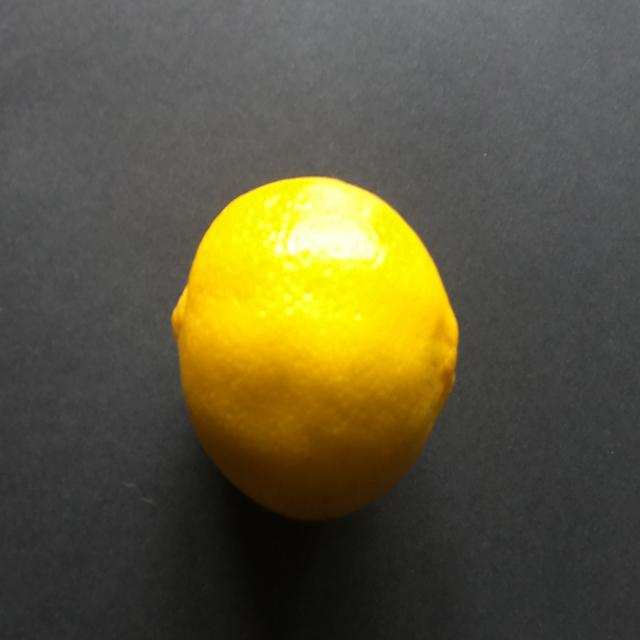Lemon: (148, 152, 488, 544)
